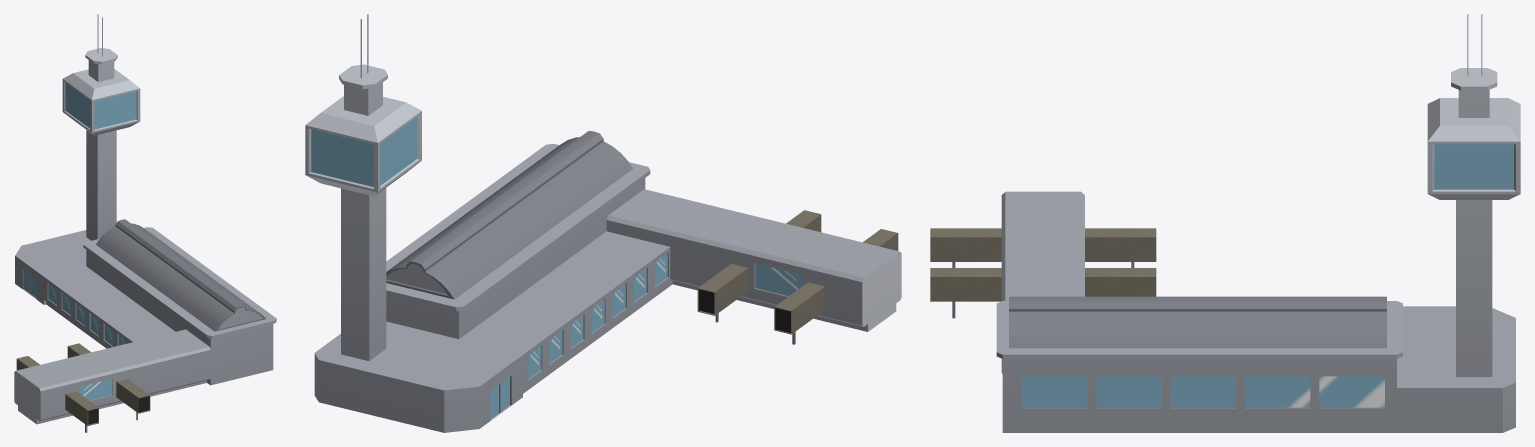
Rendered from AirportBuilding.fbx.
3 views of the same model, side by side, from view 1: azimuth 30°, elevation 25°; view 2: azimuth 150°, elevation 25°; view 3: azimuth 270°, elevation 25° (orthographic). The views are drawn at different scales.
Visible parts, largest first — view 1: Cube.001; view 2: Cube.001; view 3: Cube.001.
Boxes of the visible parts, x1,y1,x2,y2 form: Cube.001: (14, 14, 276, 432); Cube.001: (305, 14, 901, 432); Cube.001: (930, 14, 1520, 432).
Bounding box in the file's own units: 29.17 × 29.85 × 39.67.
2 materials, 2 textured.
